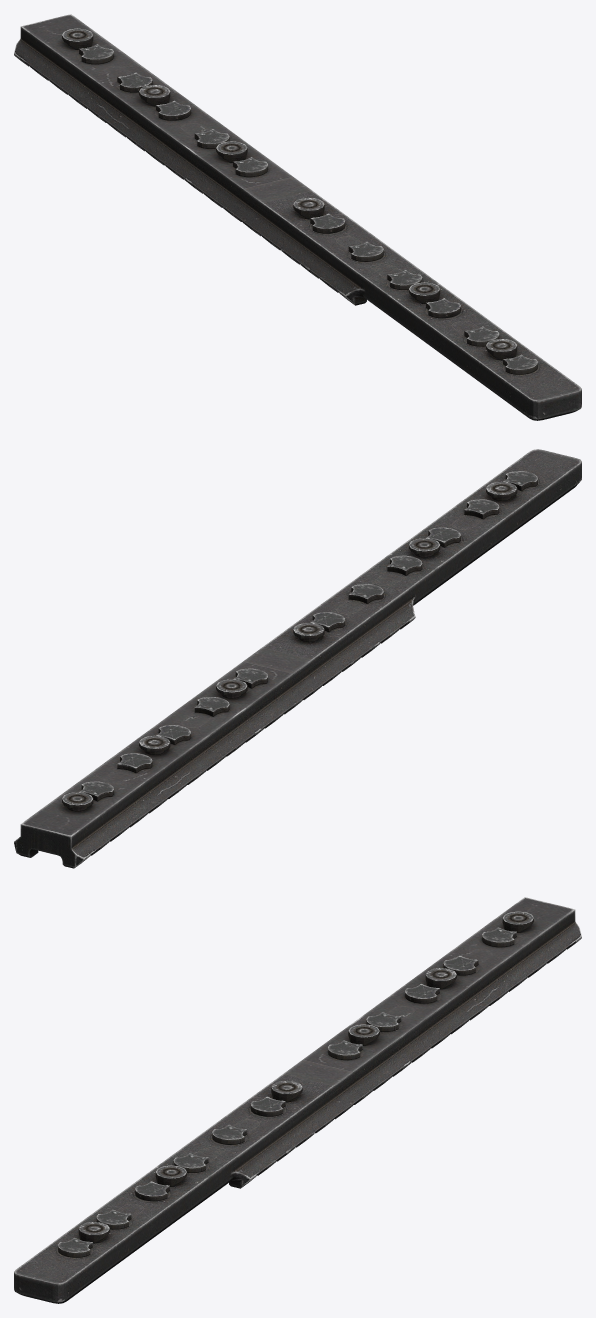
3 renders of one model, top to bottom at view 1: azimuth 30°, elevation 25°; view 2: azimuth 150°, elevation 25°; view 3: azimuth 330°, elevation 25°, orthographic.
Parts seen in each view (by area): view 1: TW_5a9d6d21a2750c00137fa649_PZ_Import; view 2: TW_5a9d6d21a2750c00137fa649_PZ_Import; view 3: TW_5a9d6d21a2750c00137fa649_PZ_Import.
Part boxes in pixels (x1=…): TW_5a9d6d21a2750c00137fa649_PZ_Import: x1=14, y1=14, x2=581, y2=420; TW_5a9d6d21a2750c00137fa649_PZ_Import: x1=14, y1=449, x2=581, y2=868; TW_5a9d6d21a2750c00137fa649_PZ_Import: x1=14, y1=897, x2=581, y2=1303.
Size of the model in its own units: 0.0121 by 0.1538 by 0.00685.
1 material, 1 textured.
